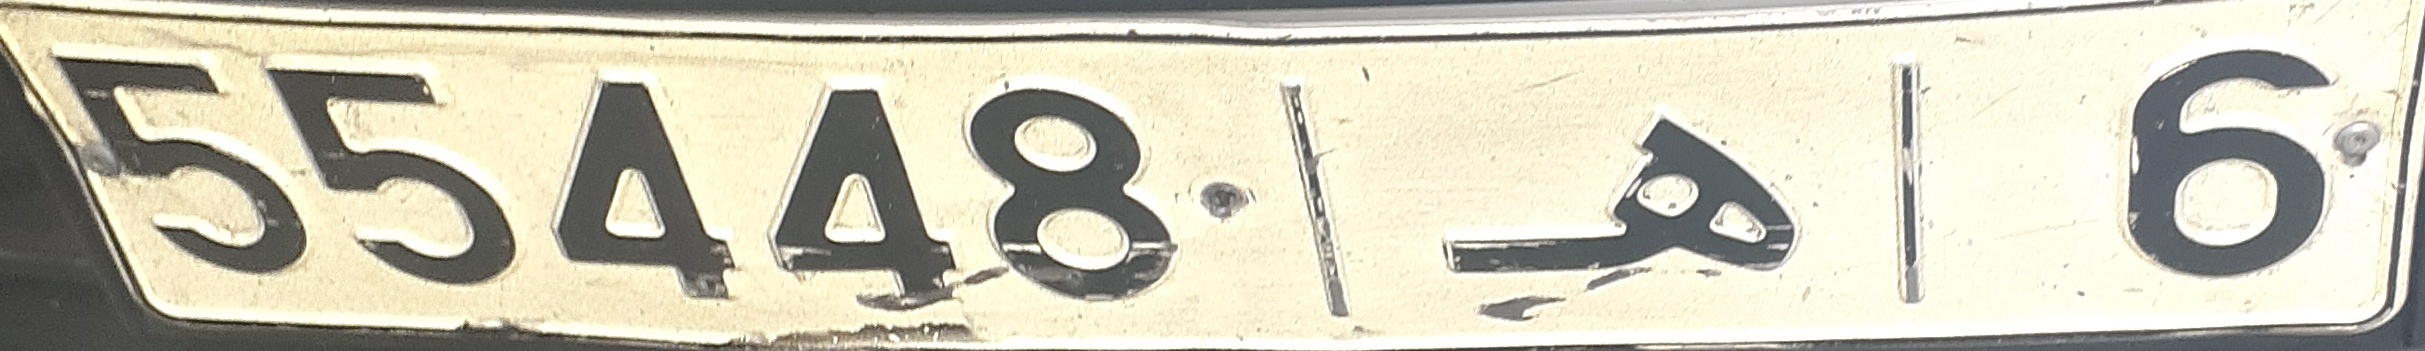4: (526, 71, 755, 311), (744, 71, 964, 308)
5: (37, 37, 317, 294), (263, 60, 529, 306)
6: (2116, 40, 2342, 283)
8: (958, 83, 1190, 311)
h: (1427, 108, 1816, 294)
